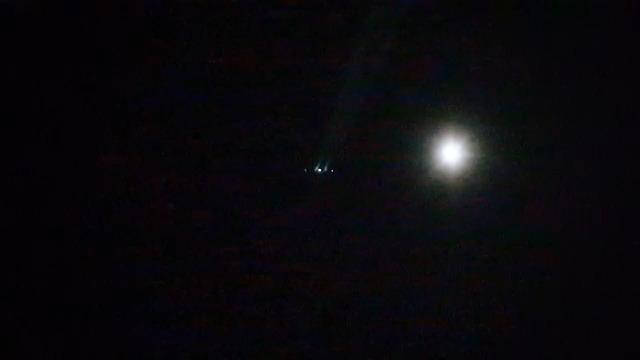Plane: (303, 115, 351, 182)
